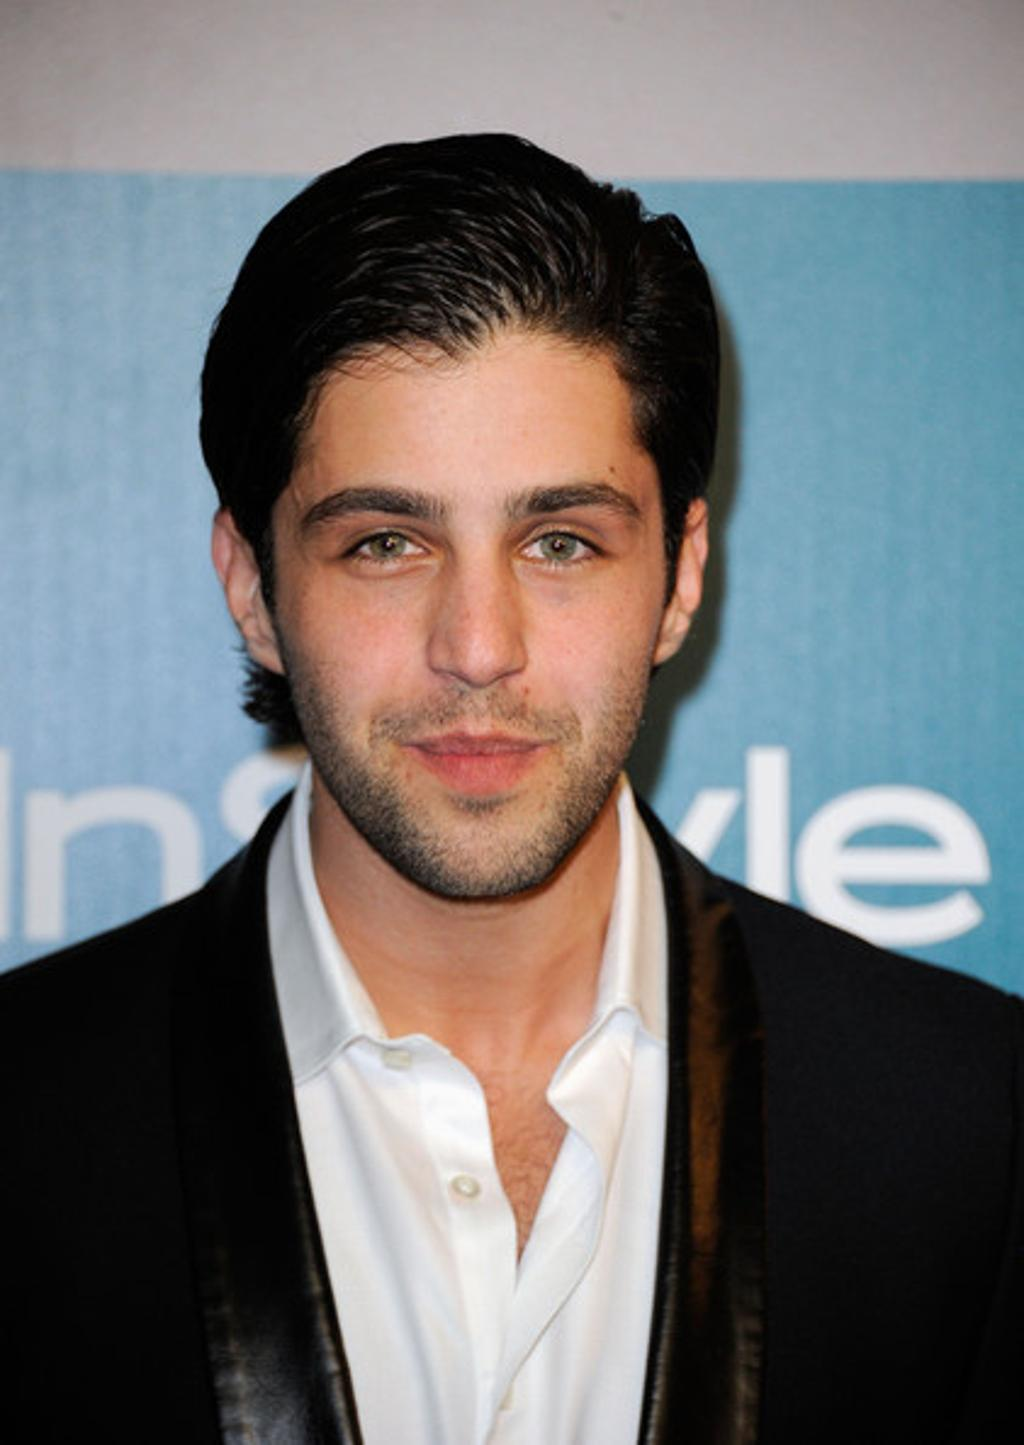face: (271, 330, 663, 894)
